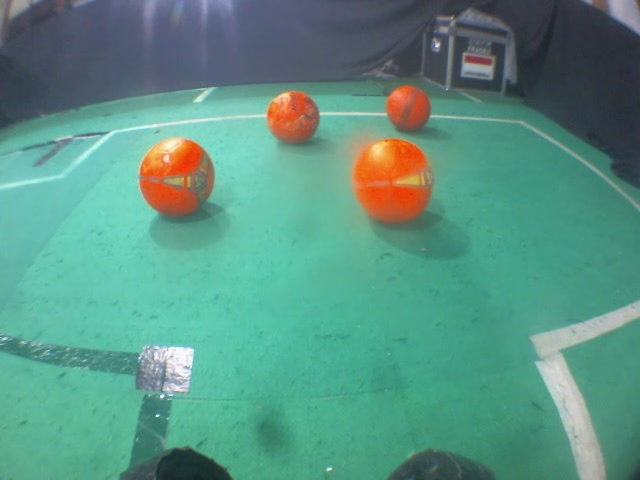ball: (346, 137, 438, 233), (137, 136, 218, 222), (264, 84, 322, 151), (382, 78, 435, 135)
